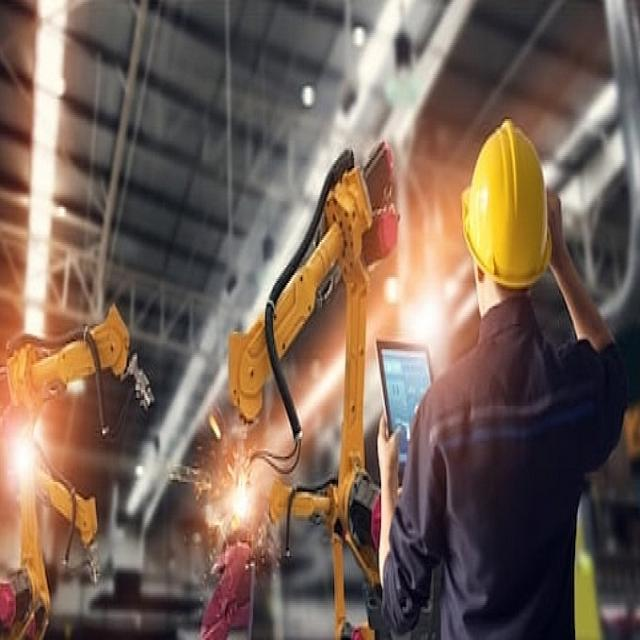Safety-Helmet: (458, 113, 558, 295), (0, 574, 20, 636)
